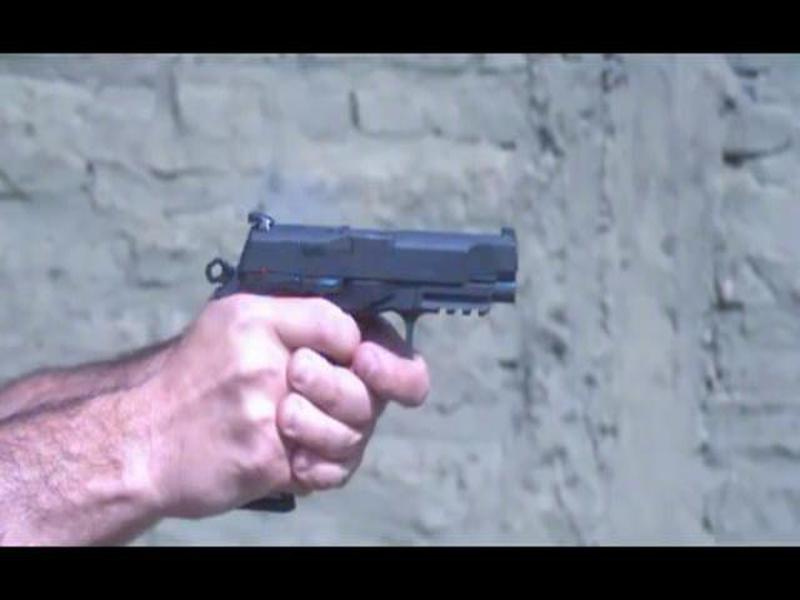Pistola: (194, 202, 538, 440)
